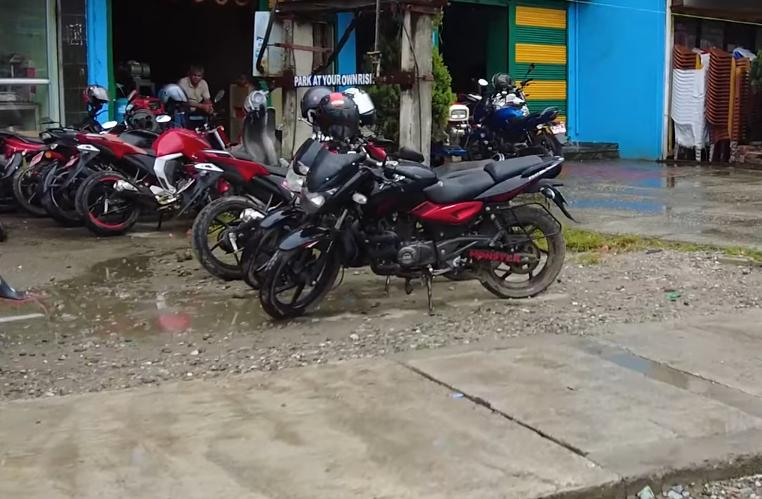bike: (254, 140, 572, 321)
